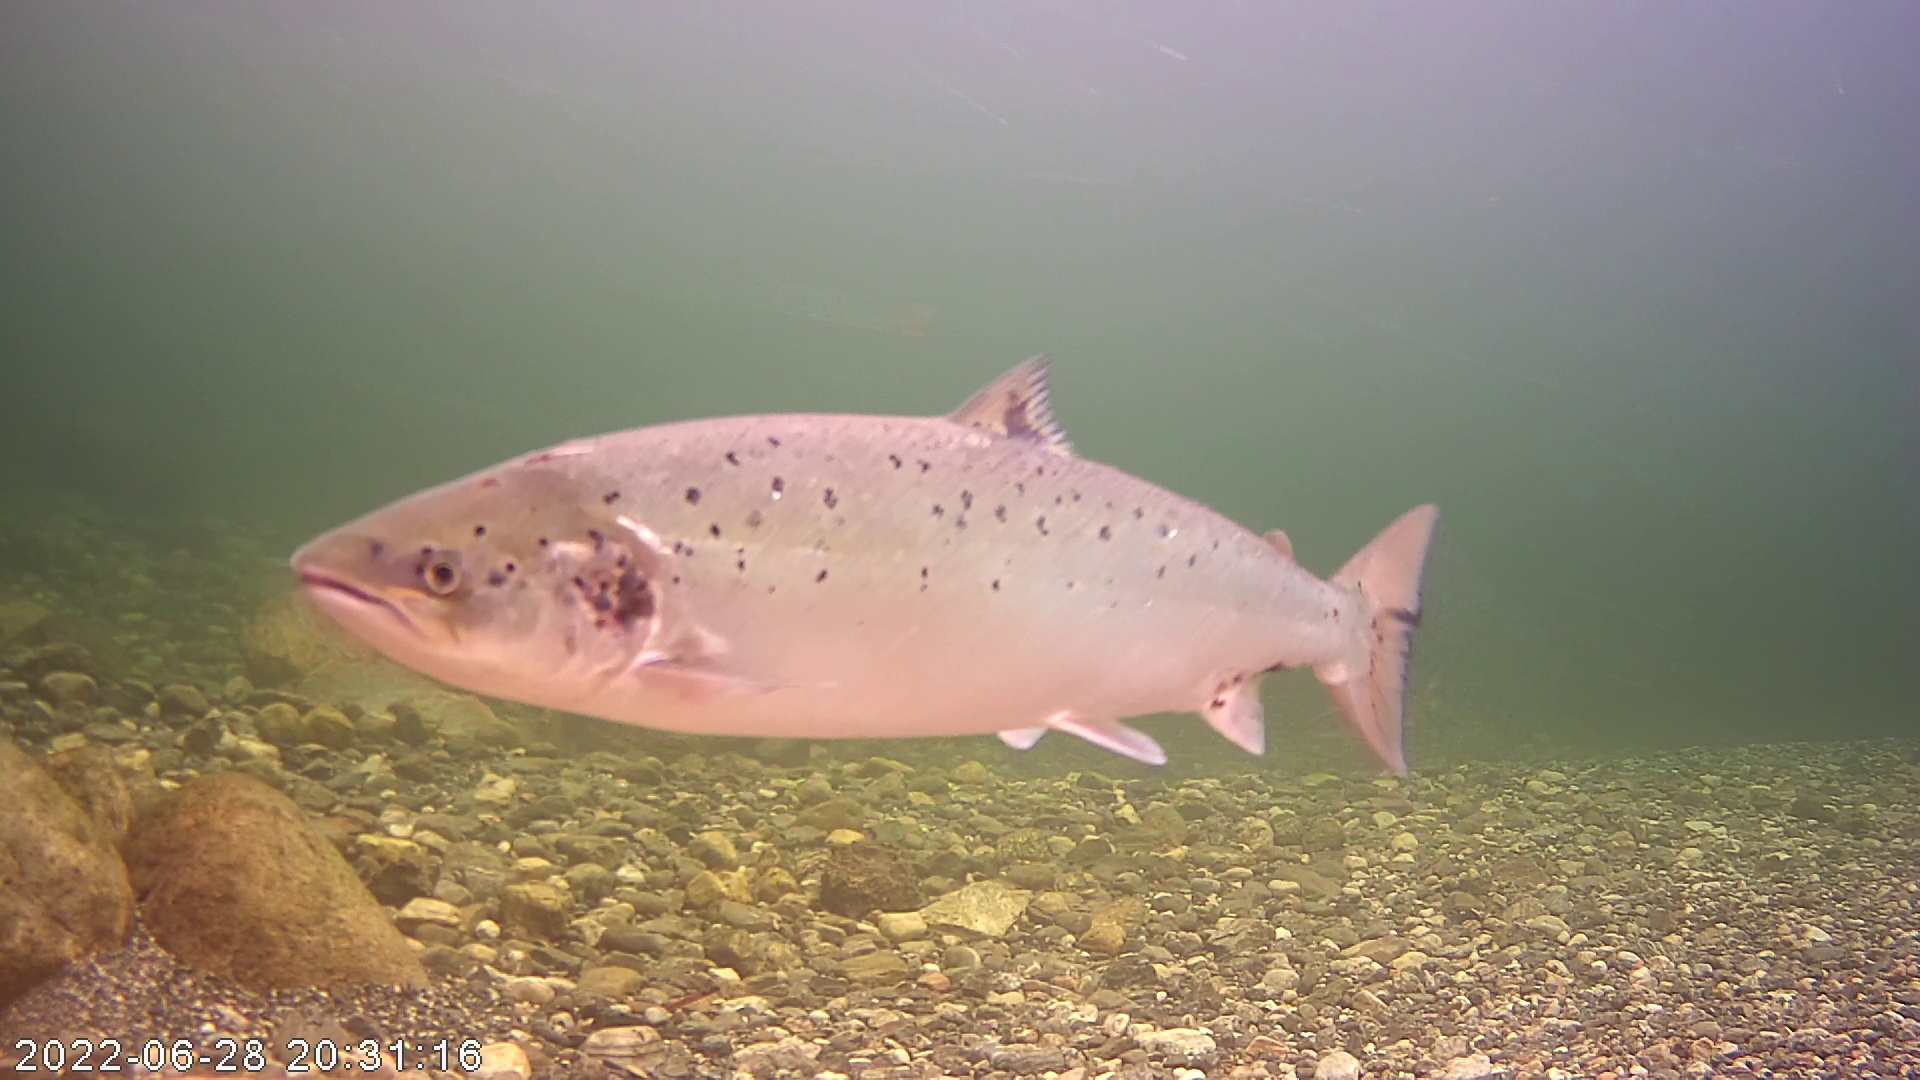salmon: (273, 264, 1406, 748)
